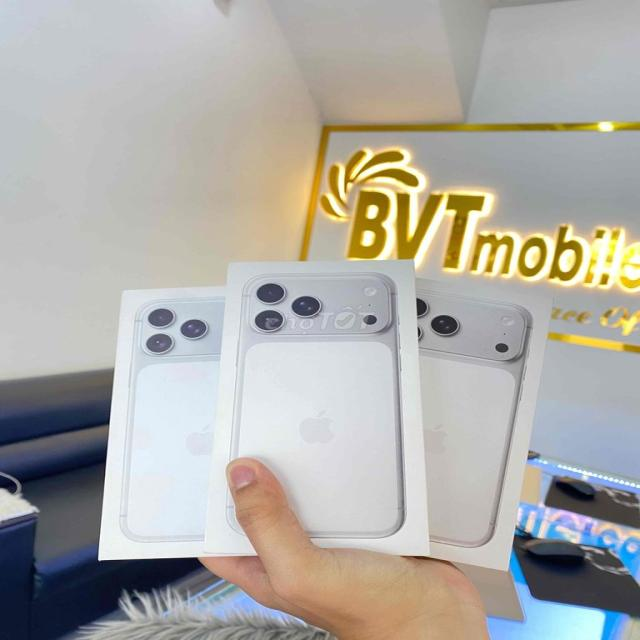gen_17: (230, 255, 412, 552)
